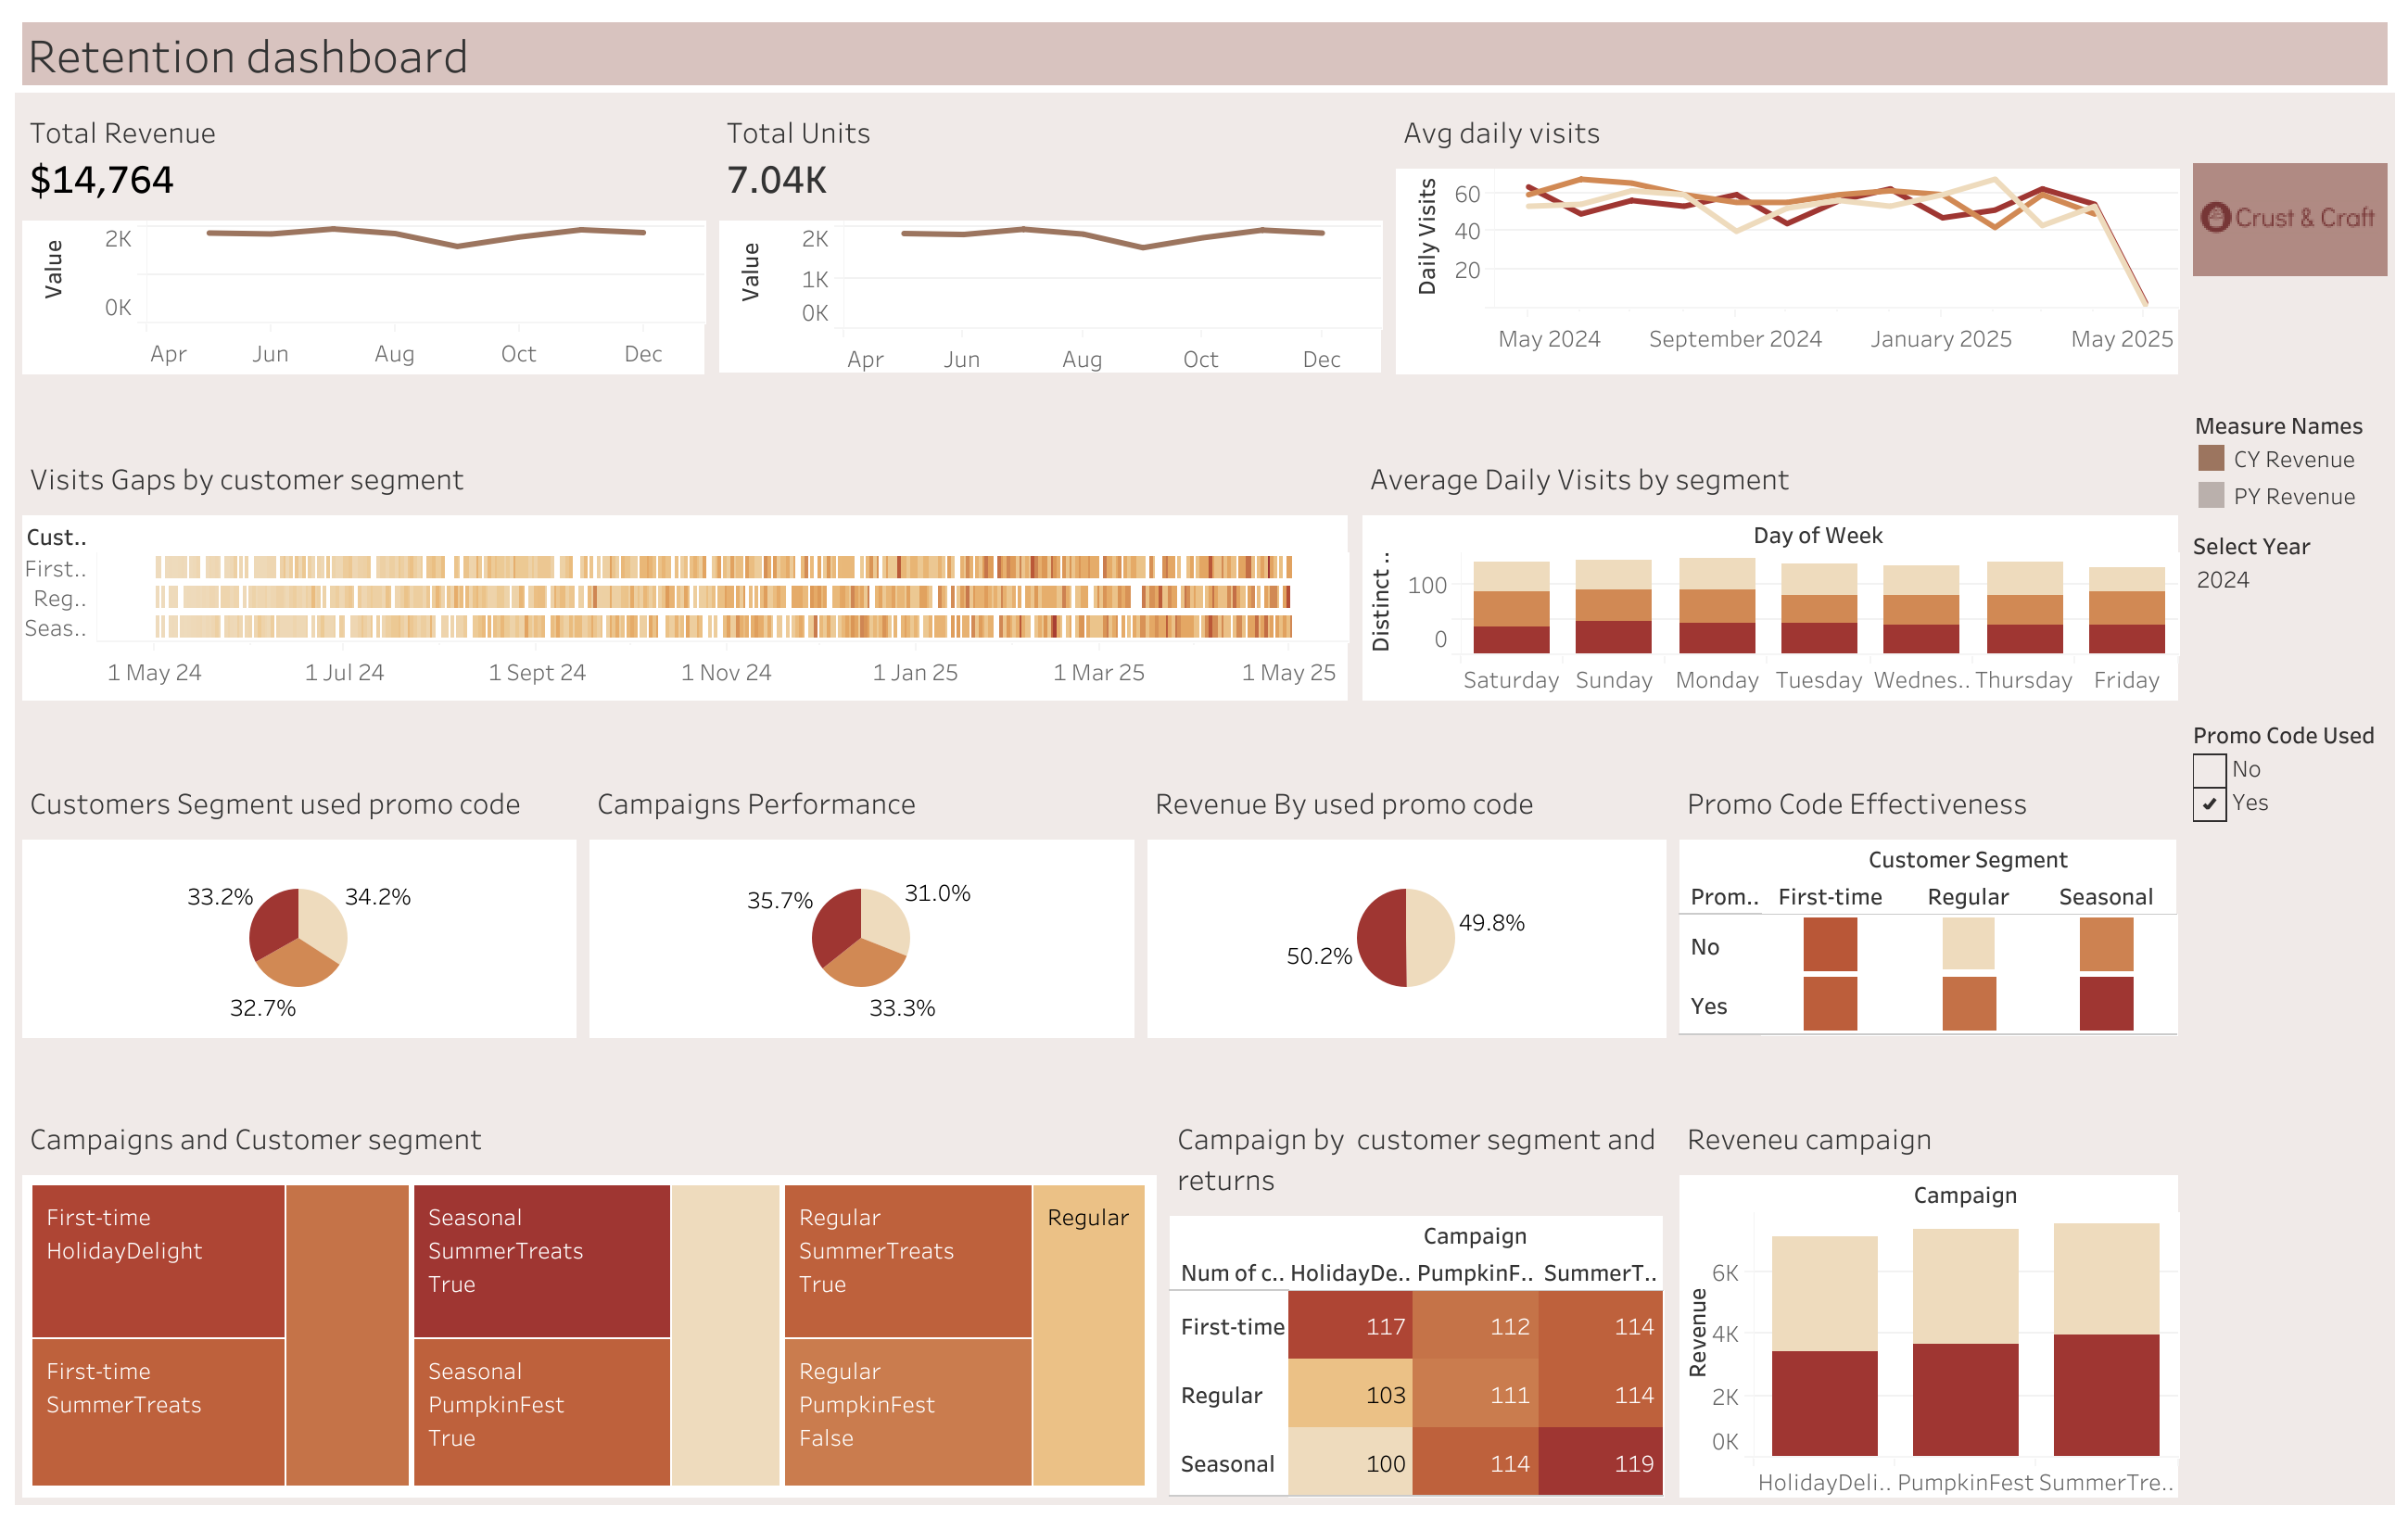

What the dashboard file says about the page in this screenshot:
{"tool":"tableau","page":{"name":"Retention dashboard","canvas":[1300,820],"ordinal":0},"visuals":[{"type":"title","box":[8,8,1284,42]},{"type":"worksheet","title":"Total Revenue","mark":"Line","cols":["Date"],"box":[8,50,376.1,156.4]},{"type":"worksheet","title":"Total Units","mark":"Automatic","cols":["Date"],"box":[384.1,50,364.6,156.4]},{"type":"worksheet","title":"Avg daily visits","mark":"Automatic","rows":["Calculation_5520005778828759044"],"cols":["Date"],"box":[748.7,50,430.3,156.4]},{"type":"blank","box":[1179,50,113,32]},{"type":"image","param":"Image/crust--craft-high-resolution-logo.png","box":[1179,82,113,73]},{"type":"blank","box":[1179,155,113,59]},{"type":"blank","box":[8,206.4,740.7,30.7]},{"type":"blank","box":[748.7,206.4,430.3,30.7]},{"type":"legend","title":"Total Revenue","param":"[federated.1iz11yq12yq1tu1h05c7c18dl4ut].[:Measure Names]","box":[1179,214,113,66]},{"type":"worksheet","title":"Visit Gaps","mark":"Automatic","rows":["Customer_Segment"],"cols":["Date"],"box":[8,237,723,144.7]},{"type":"worksheet","title":"avg daily visits","mark":"Automatic","rows":["Date"],"cols":["Calculation_5520005778868187151"],"box":[731,237,448,144.7]},{"type":"parameter","param":"[Parameters].[Parameter 1]","box":[1179,280,113,101.7]},{"type":"blank","box":[8,381.7,1171,30.3]},{"type":"filter","title":"Revenue By Campaign","param":"[federated.1iz11yq12yq1tu1h05c7c18dl4ut].[none:Promo_Code_Used:nk]","box":[1179,381.7,113,84]},{"type":"worksheet","title":"Total Customers use code by campaign and segement","mark":"Pie","box":[8,412,306.3,150.7]},{"type":"worksheet","title":"Revenue By Campaign","mark":"Pie","box":[314.3,412,301.1,150.7]},{"type":"worksheet","title":"Revenue by promo code","mark":"Pie","box":[615.4,412,286.5,150.7]},{"type":"worksheet","title":"Promo Code Effectiveness","mark":"Automatic","rows":["Promo_Code_Used"],"cols":["Customer_Segment"],"box":[901.8,412,277.2,150.7]},{"type":"blank","box":[1179,465.7,113,346.3]},{"type":"blank","box":[8,562.7,1171,30.3]},{"type":"worksheet","title":"Campaigns and Customer segment","mark":"Automatic","box":[8,593.1,619,218.9]},{"type":"worksheet","title":"Campaign by  customer segment and returns ","mark":"Square","rows":["Calculation_3495215532868300800"],"cols":["Campaign"],"box":[627,593.1,274.9,218.9]},{"type":"worksheet","title":"Reveneu campaign","mark":"Automatic","rows":["Revenue"],"cols":["Campaign"],"box":[901.8,593.1,277.2,218.9]}]}

Visuals, with their boxes in screenshot pixels (x1, y1, x2, y2), scaled from the page's 1300x820 canvas onto the 2408x1518 screenshot:
title: select_region(15, 15, 2393, 93)
"Total Revenue" worksheet (Line marks): select_region(15, 93, 712, 382)
"Total Units" worksheet: select_region(712, 93, 1387, 382)
"Avg daily visits" worksheet: select_region(1387, 93, 2184, 382)
blank: select_region(2184, 93, 2393, 152)
image: select_region(2184, 152, 2393, 287)
blank: select_region(2184, 287, 2393, 396)
blank: select_region(15, 382, 1387, 439)
blank: select_region(1387, 382, 2184, 439)
"Total Revenue" legend: select_region(2184, 396, 2393, 518)
"Visit Gaps" worksheet: select_region(15, 438, 1354, 706)
"avg daily visits" worksheet: select_region(1354, 438, 2184, 706)
parameter: select_region(2184, 518, 2393, 706)
blank: select_region(15, 706, 2184, 763)
"Revenue By Campaign" filter: select_region(2184, 706, 2393, 862)
"Total Customers use code by campaign and segement" worksheet (Pie marks): select_region(15, 763, 582, 1042)
"Revenue By Campaign" worksheet (Pie marks): select_region(582, 763, 1140, 1042)
"Revenue by promo code" worksheet (Pie marks): select_region(1140, 763, 1670, 1042)
"Promo Code Effectiveness" worksheet: select_region(1670, 763, 2184, 1042)
blank: select_region(2184, 862, 2393, 1503)
blank: select_region(15, 1042, 2184, 1098)
"Campaigns and Customer segment" worksheet: select_region(15, 1098, 1161, 1503)
"Campaign by  customer segment and returns " worksheet (Square marks): select_region(1161, 1098, 1670, 1503)
"Reveneu campaign" worksheet: select_region(1670, 1098, 2184, 1503)
